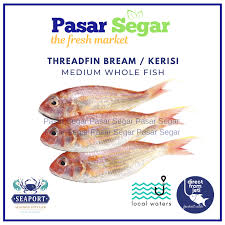Ikan Kerisi: (49, 142, 194, 181), (41, 113, 180, 152), (38, 82, 167, 117)
